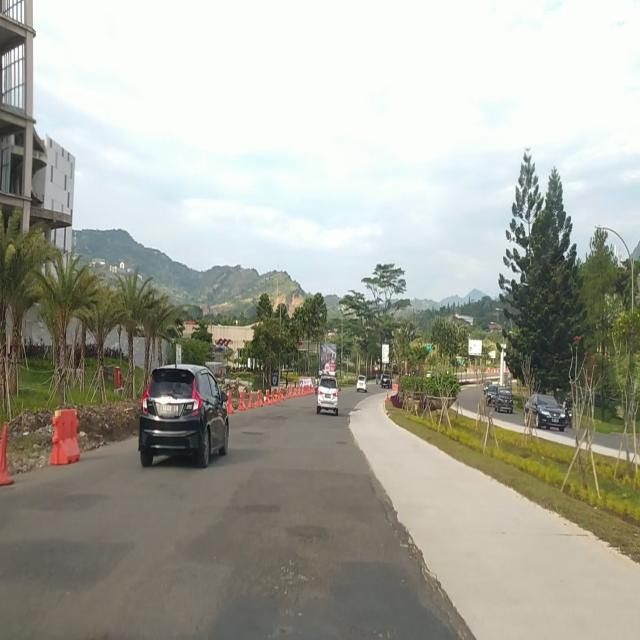Drain Hole: (192, 543, 315, 623)
